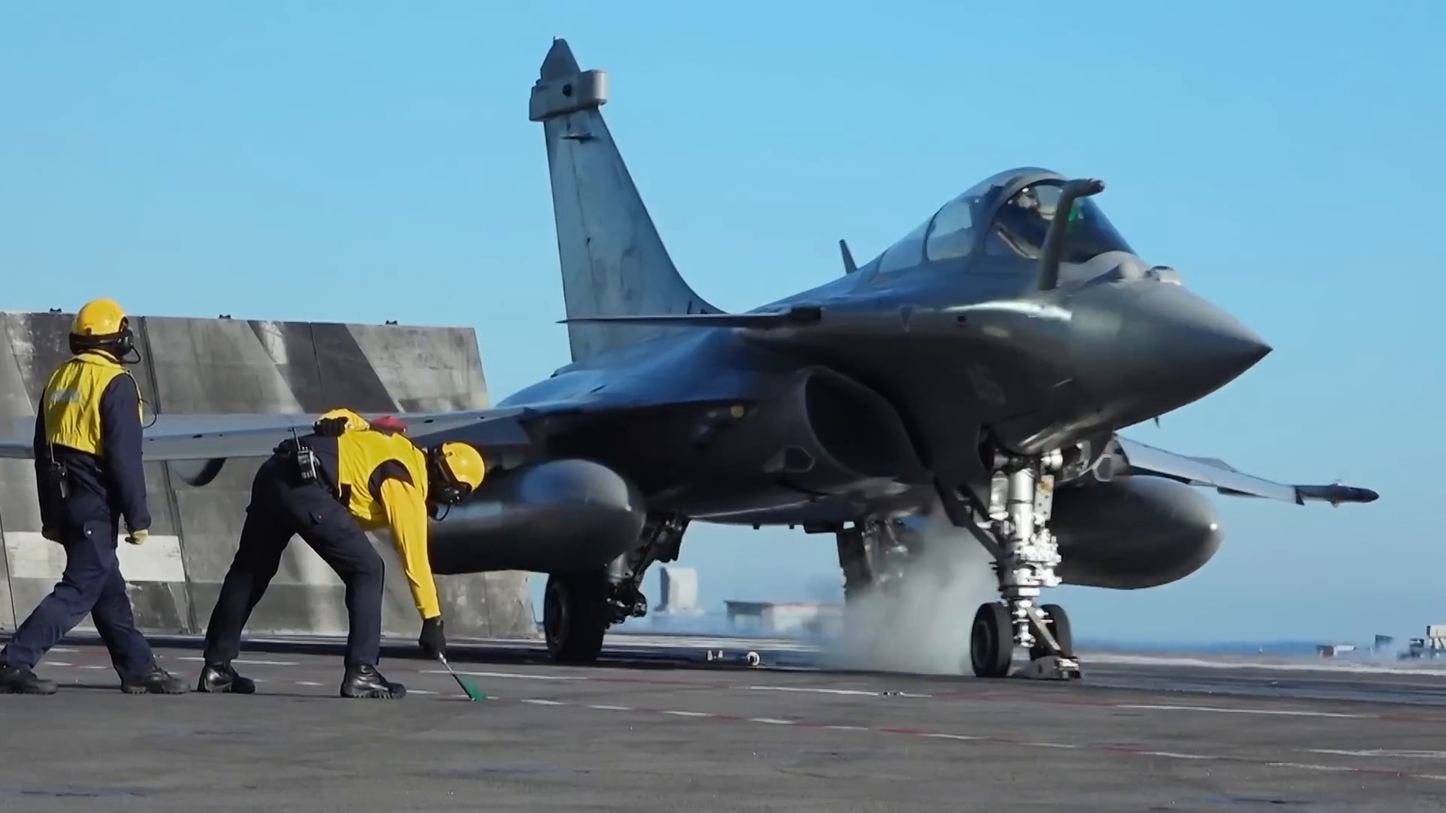Rafale: (0, 29, 1396, 693)
